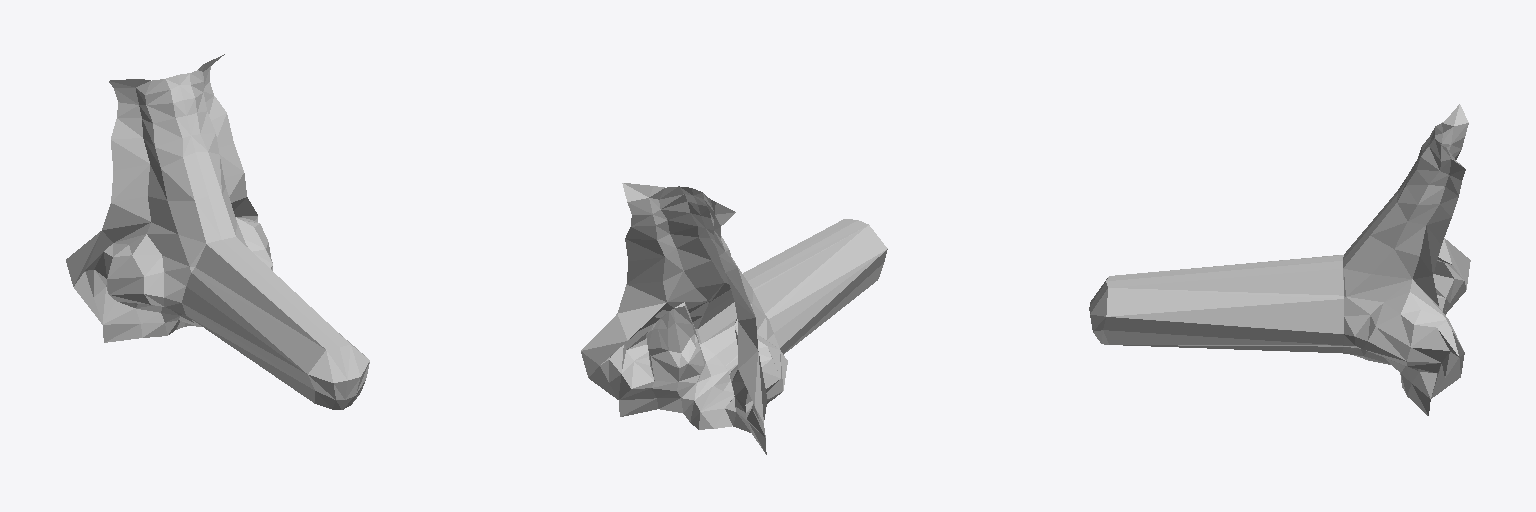
The model's file is nose4.obj.
3 renders of one model, left to right at view 1: azimuth 30°, elevation 25°; view 2: azimuth 150°, elevation 25°; view 3: azimuth 270°, elevation 25°, orthographic.
Visible parts, largest first — view 1: object_1; view 2: object_1; view 3: object_1.
Part boxes in pixels (x1,y1,x2,y2): object_1: (66, 54, 369, 409); object_1: (581, 183, 887, 454); object_1: (1089, 104, 1470, 415).
Size of the model in its own units: 19.86 by 24.94 by 34.54.